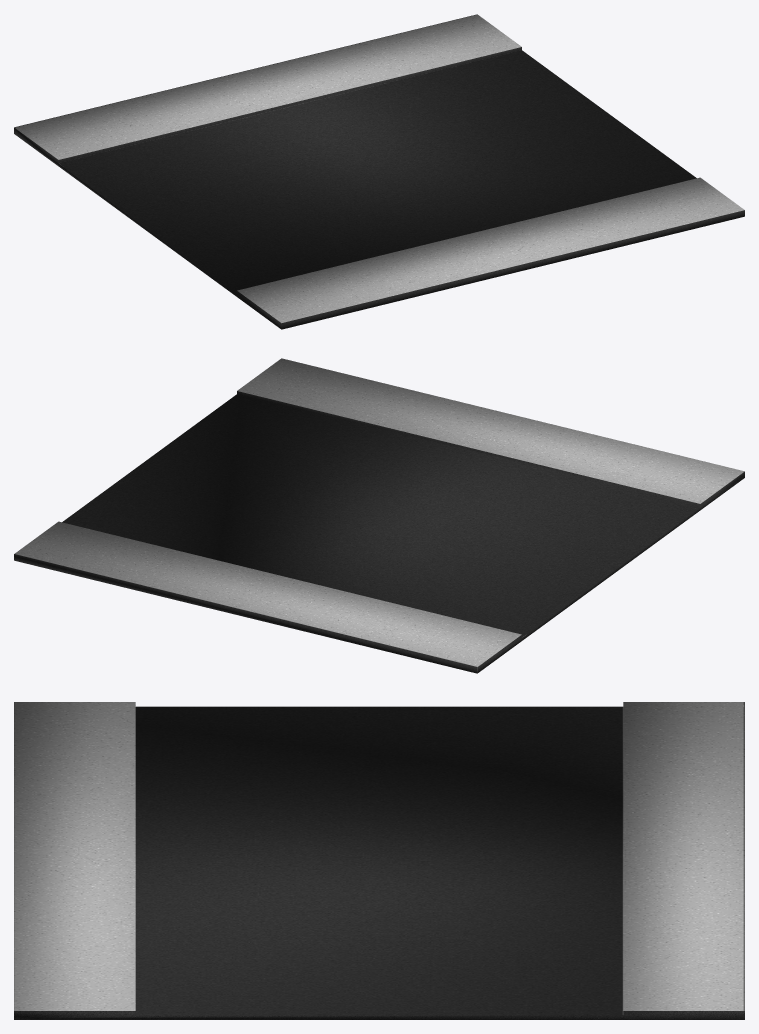
The model's file is ROAD_15x15_straight.obj.
3 views of the same model, one above another, from view 1: azimuth 30°, elevation 25°; view 2: azimuth 150°, elevation 25°; view 3: azimuth 270°, elevation 25° (orthographic). The views are drawn at different scales.
Parts seen in each view (by area): view 1: Cube1_Cube1_auv; view 2: Cube1_Cube1_auv; view 3: Cube1_Cube1_auv.
Part boxes in pixels (left/top/right/bottom): Cube1_Cube1_auv: left=14, top=14, right=744, bottom=329; Cube1_Cube1_auv: left=14, top=358, right=744, bottom=673; Cube1_Cube1_auv: left=14, top=702, right=744, bottom=1019.
Size of the model in its own units: 15 by 0.2 by 15.
